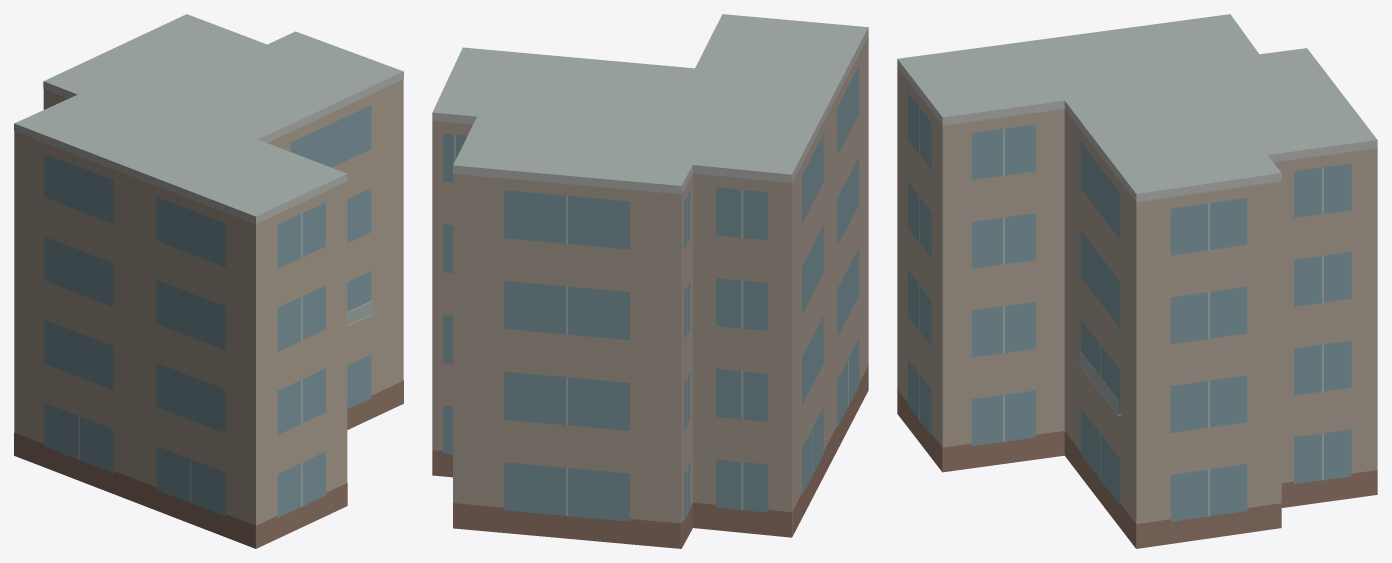
Rendered from survey-upis-32903824.glb.
The picture shows the model from 3 angles, left to right: view 1: azimuth 30°, elevation 25°; view 2: azimuth 150°, elevation 25°; view 3: azimuth 270°, elevation 25°; orthographic projection. The views are drawn at different scales.
Visible parts, largest first — view 1: survey-upis-32903824.tmp; view 2: survey-upis-32903824.tmp; view 3: survey-upis-32903824.tmp.
Boxes of the visible parts, <box> form: survey-upis-32903824.tmp: <box>14,14,403,548</box>; survey-upis-32903824.tmp: <box>432,14,868,548</box>; survey-upis-32903824.tmp: <box>897,14,1377,548</box>.
Size of the model in its own units: 11.49 by 10.55 by 12.95.
